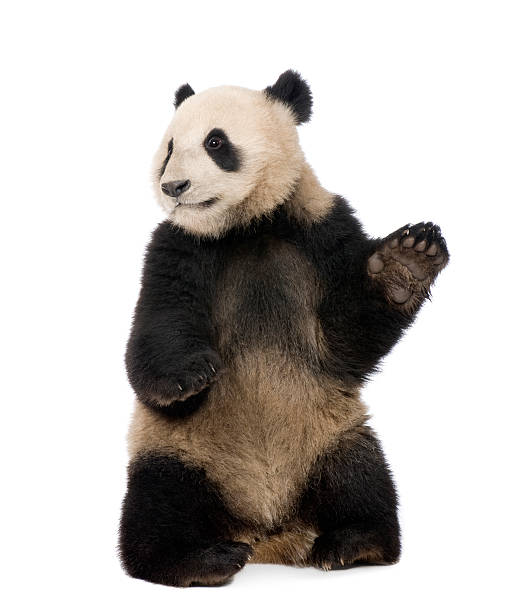panda: (111, 43, 344, 245)
